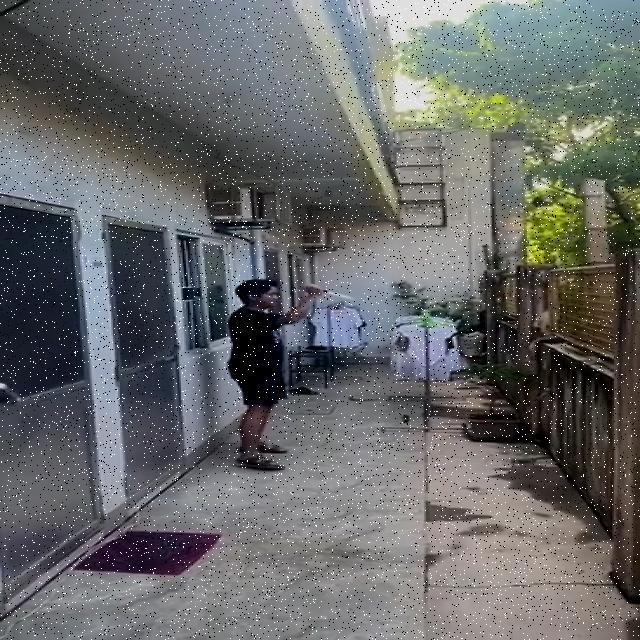knife: (323, 290, 355, 300)
non-violence: (228, 277, 356, 471)
